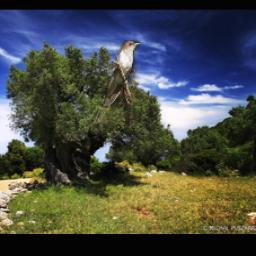Cuckoo: (95, 41, 141, 124)
